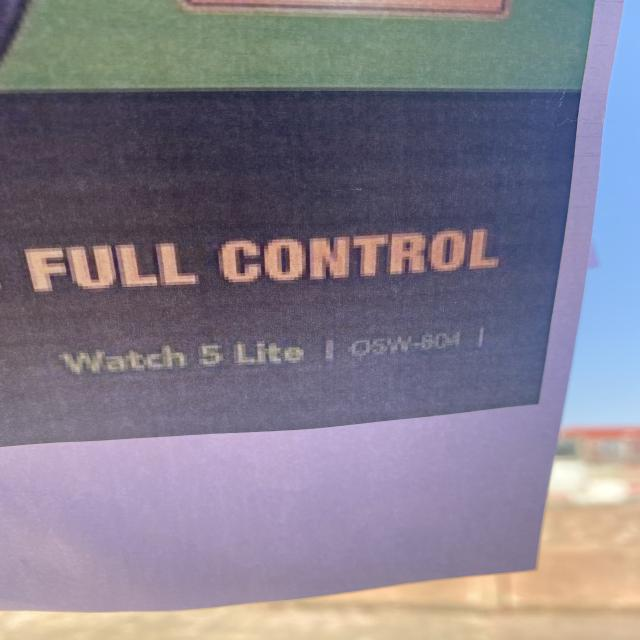Watch 5 Lite OSW-804: (47, 325, 506, 402)
